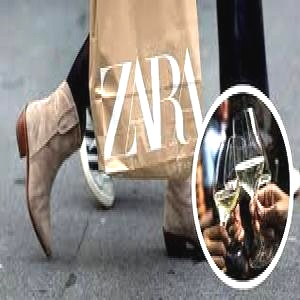zara: (104, 145, 299, 188)
